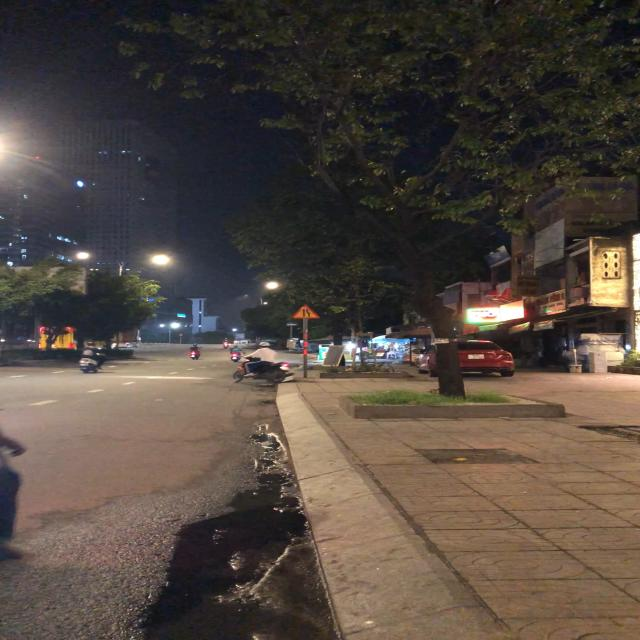Bien bao duong bi thu hep: (288, 303, 324, 319)
